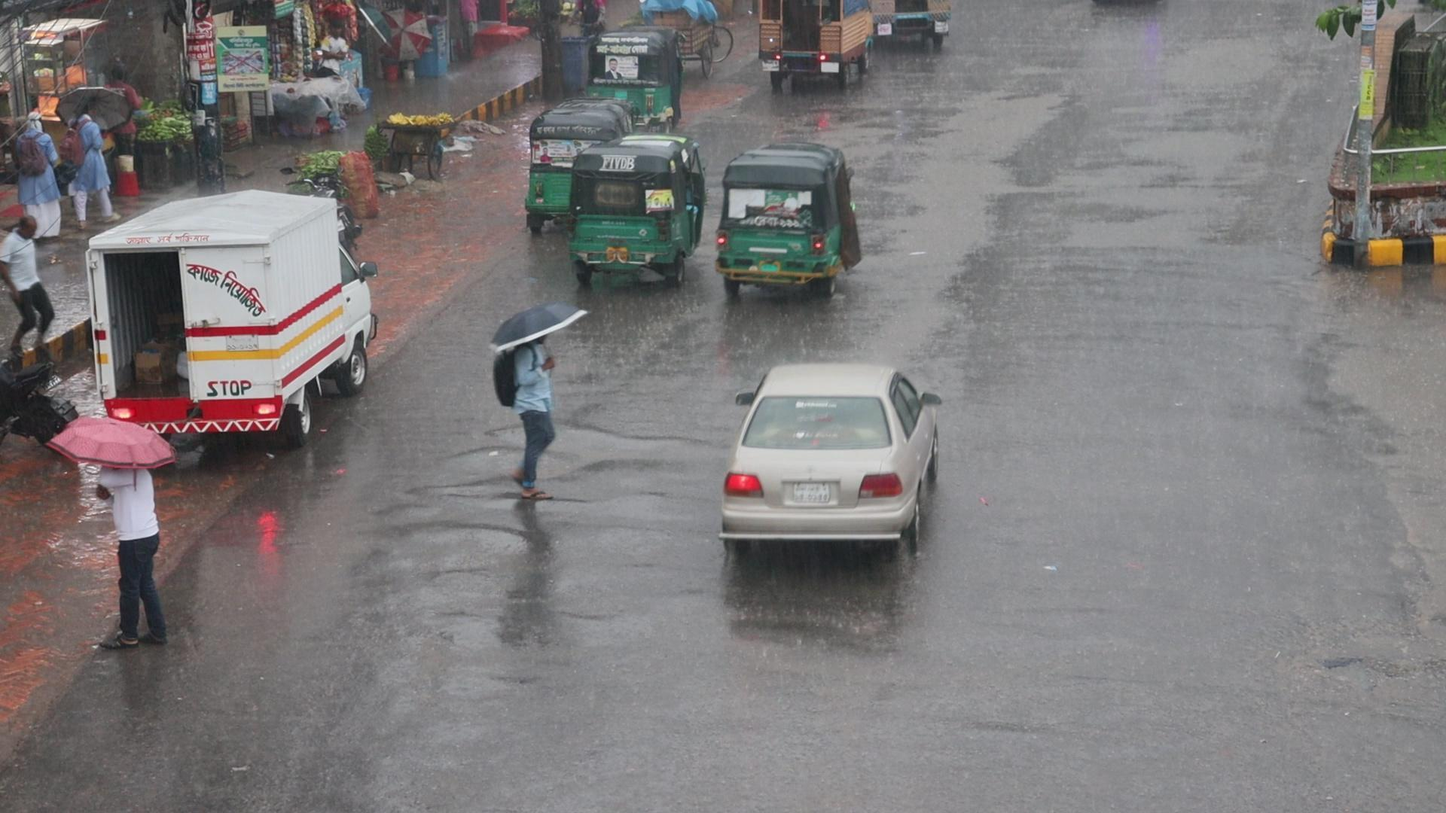Car: (714, 355, 946, 570)
